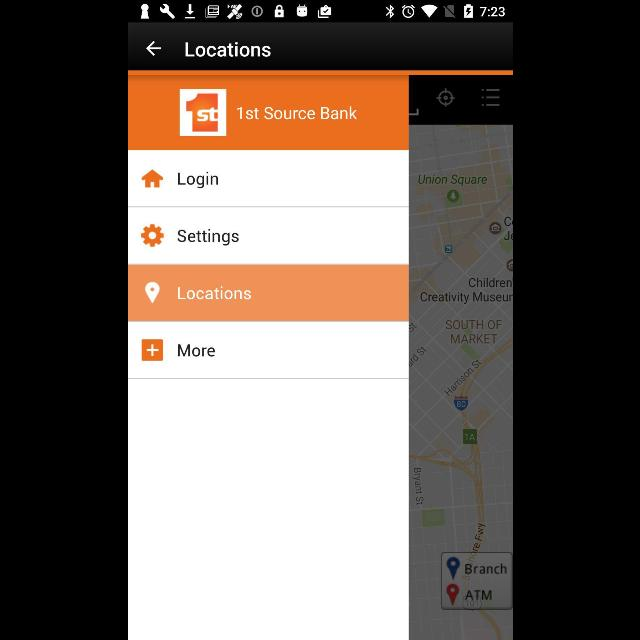icon: (140, 225, 163, 248), (141, 339, 163, 361), (141, 170, 163, 188), (144, 282, 160, 304), (145, 41, 161, 57)
image: (178, 90, 226, 136)
panel: (128, 70, 408, 640)
text: (236, 106, 356, 120), (184, 42, 270, 58), (176, 228, 238, 246), (177, 286, 251, 300), (176, 171, 218, 189), (177, 344, 215, 358)
toolbar: (128, 24, 512, 70)
uppertaskbar: (128, 1, 512, 23)
